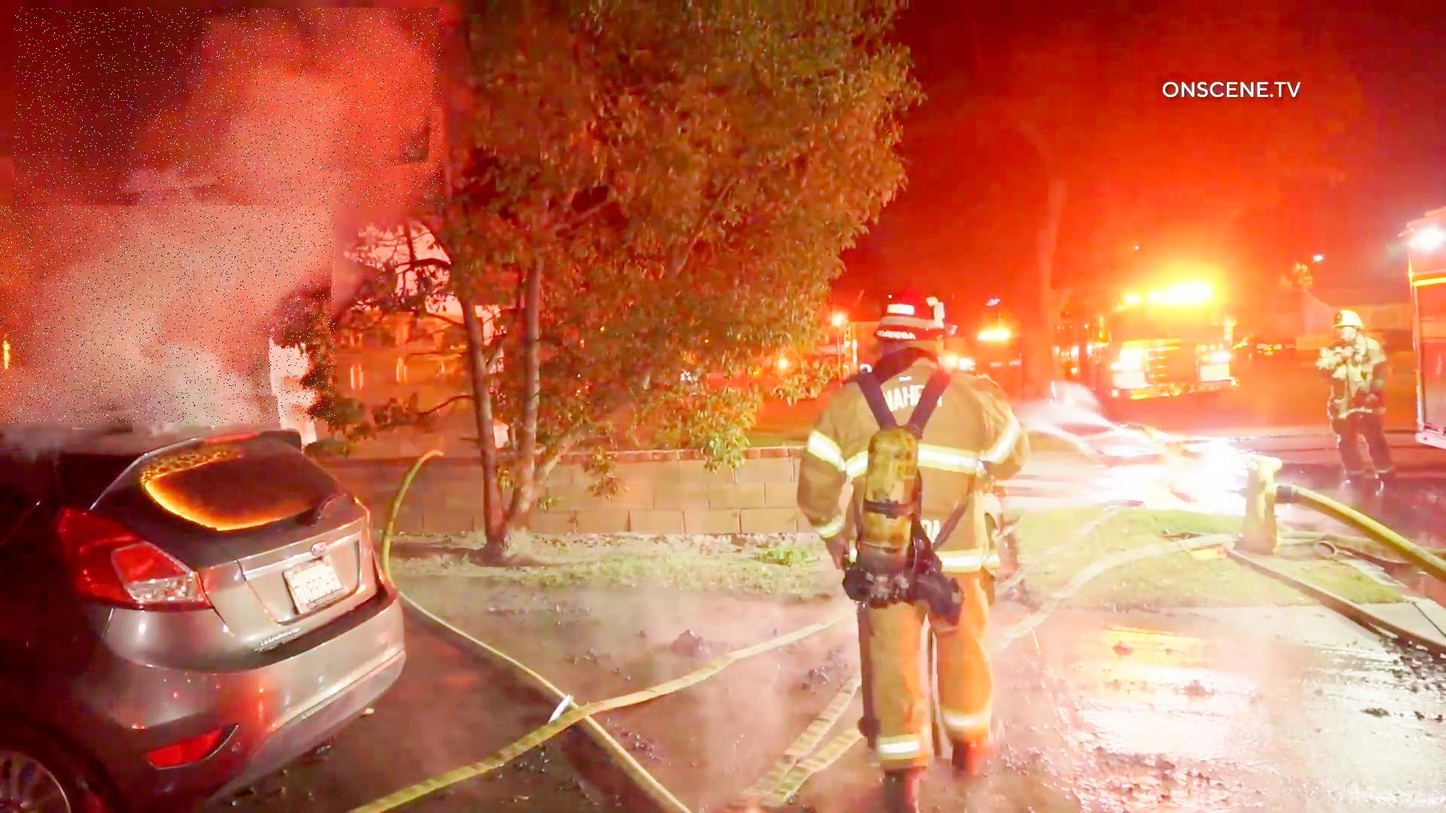smoke: (14, 8, 443, 207), (0, 206, 335, 423)
